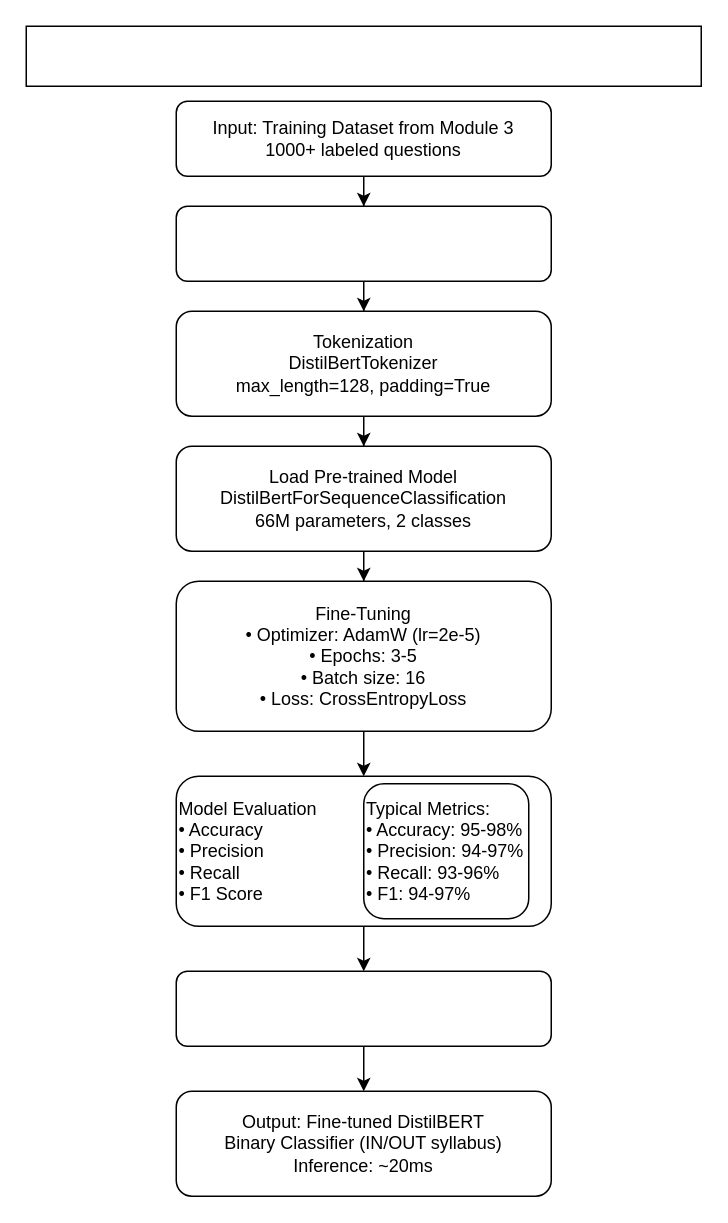
This 728x1223 diagram has some shape labels left out. The shapes that lost their labels are listed below. From the top down, each one's centre as x and y in pixels, then its label:
[363,55]: MODULE 4: DISTILBERT FINE-TUNING (LAYER 1 CLASSIFIER)
[363,243]: Load & Split Dataset Train: 80% | Val: 10% | Test: 10%
[363,1008]: Save Model Weights subjects/{subject_id}/models/layer1_distilbert/
